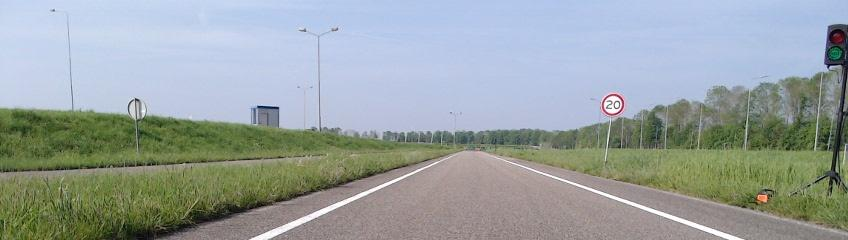Speed-limit-20km-h-: (602, 94, 625, 116)
TrafficLight-green: (824, 24, 848, 64)
